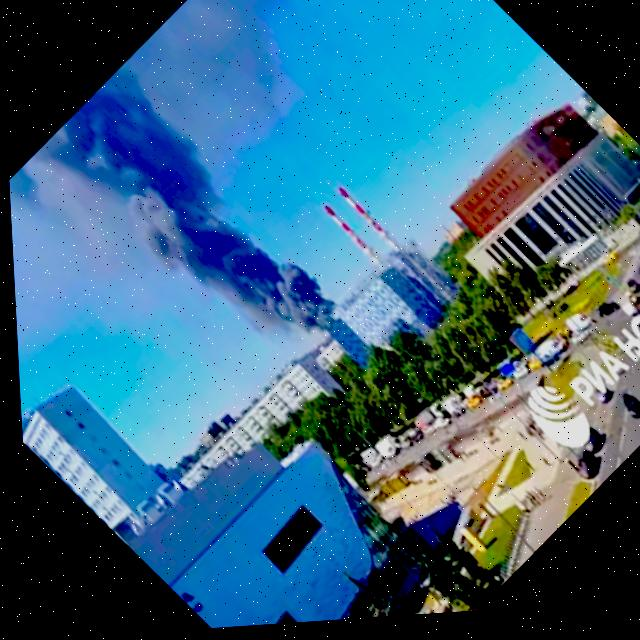Smoke: (2, 31, 382, 448)
